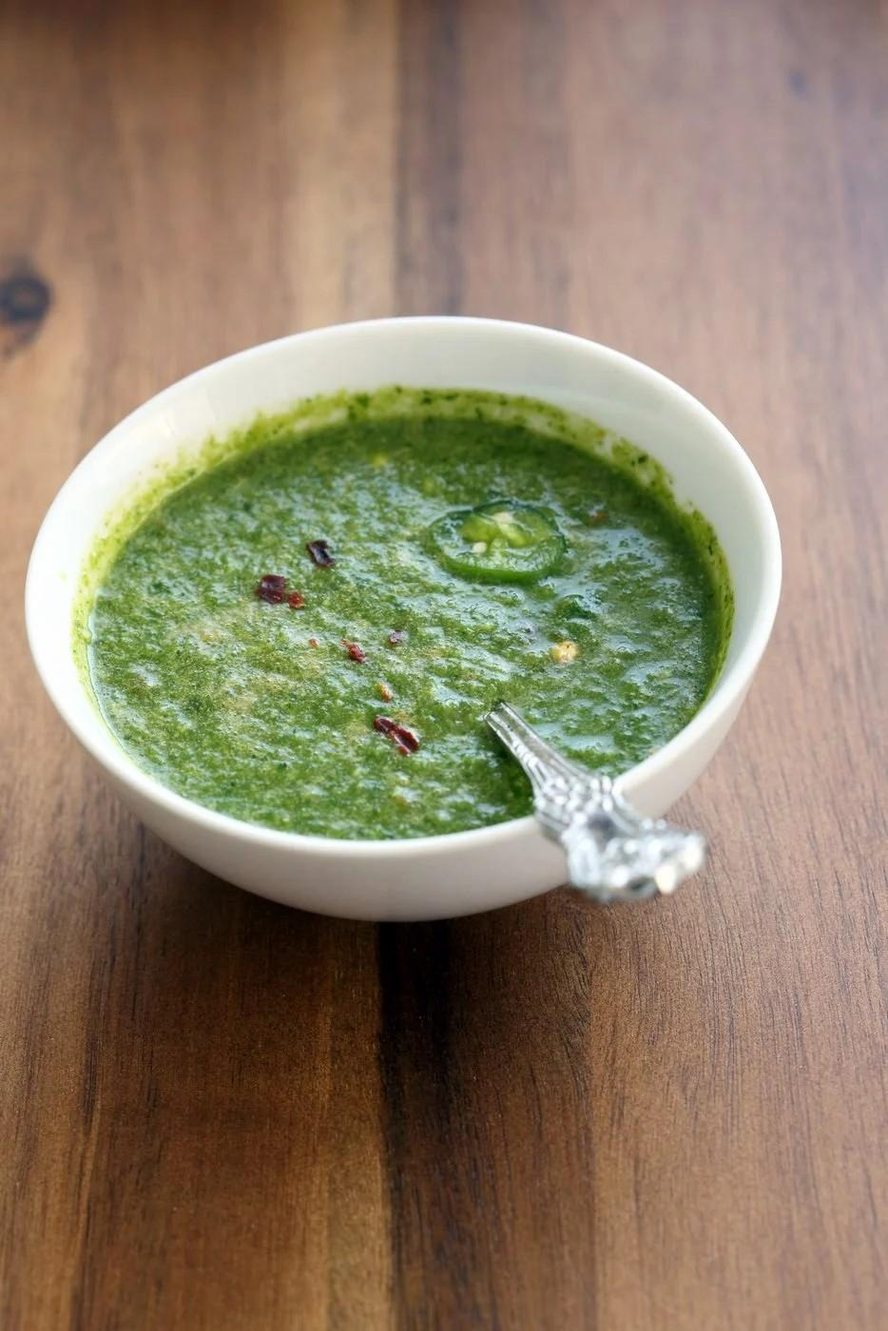GreenChutney: (87, 409, 719, 836)
